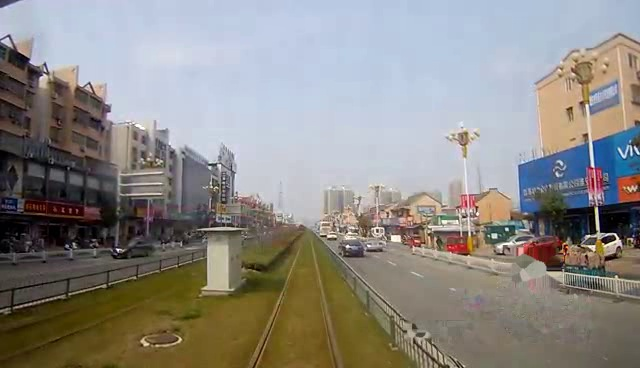car: (110, 236, 155, 259), (334, 238, 367, 255)
